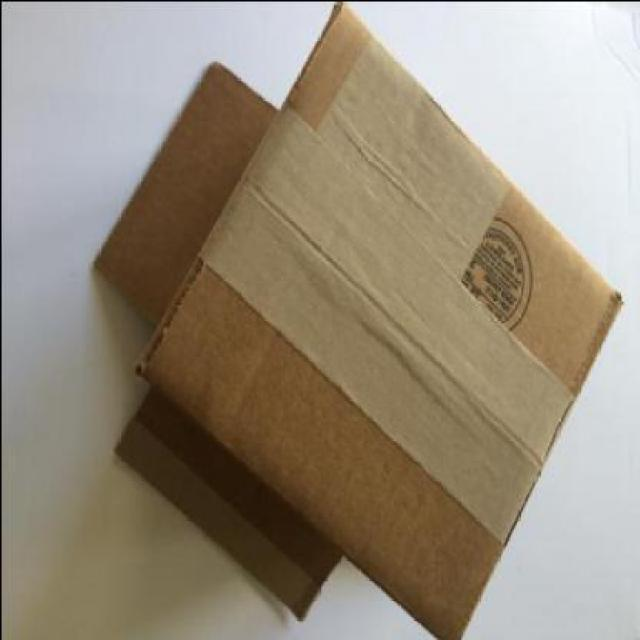box: (84, 3, 640, 640)
